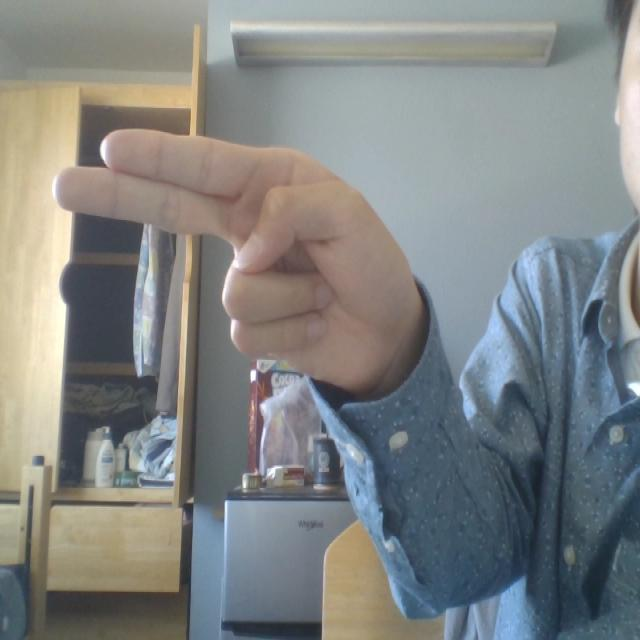H: (48, 84, 459, 437)
